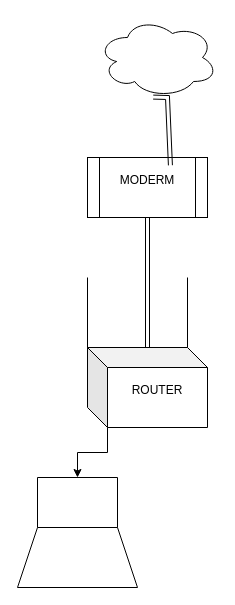
This 235x605 diagram has some shape labels left out. Here are the shapes that lost their labels. From the top down, the centre of each, then its label:
At (157,57): "INTERNET".
At (77,557): "COMPUTER".
